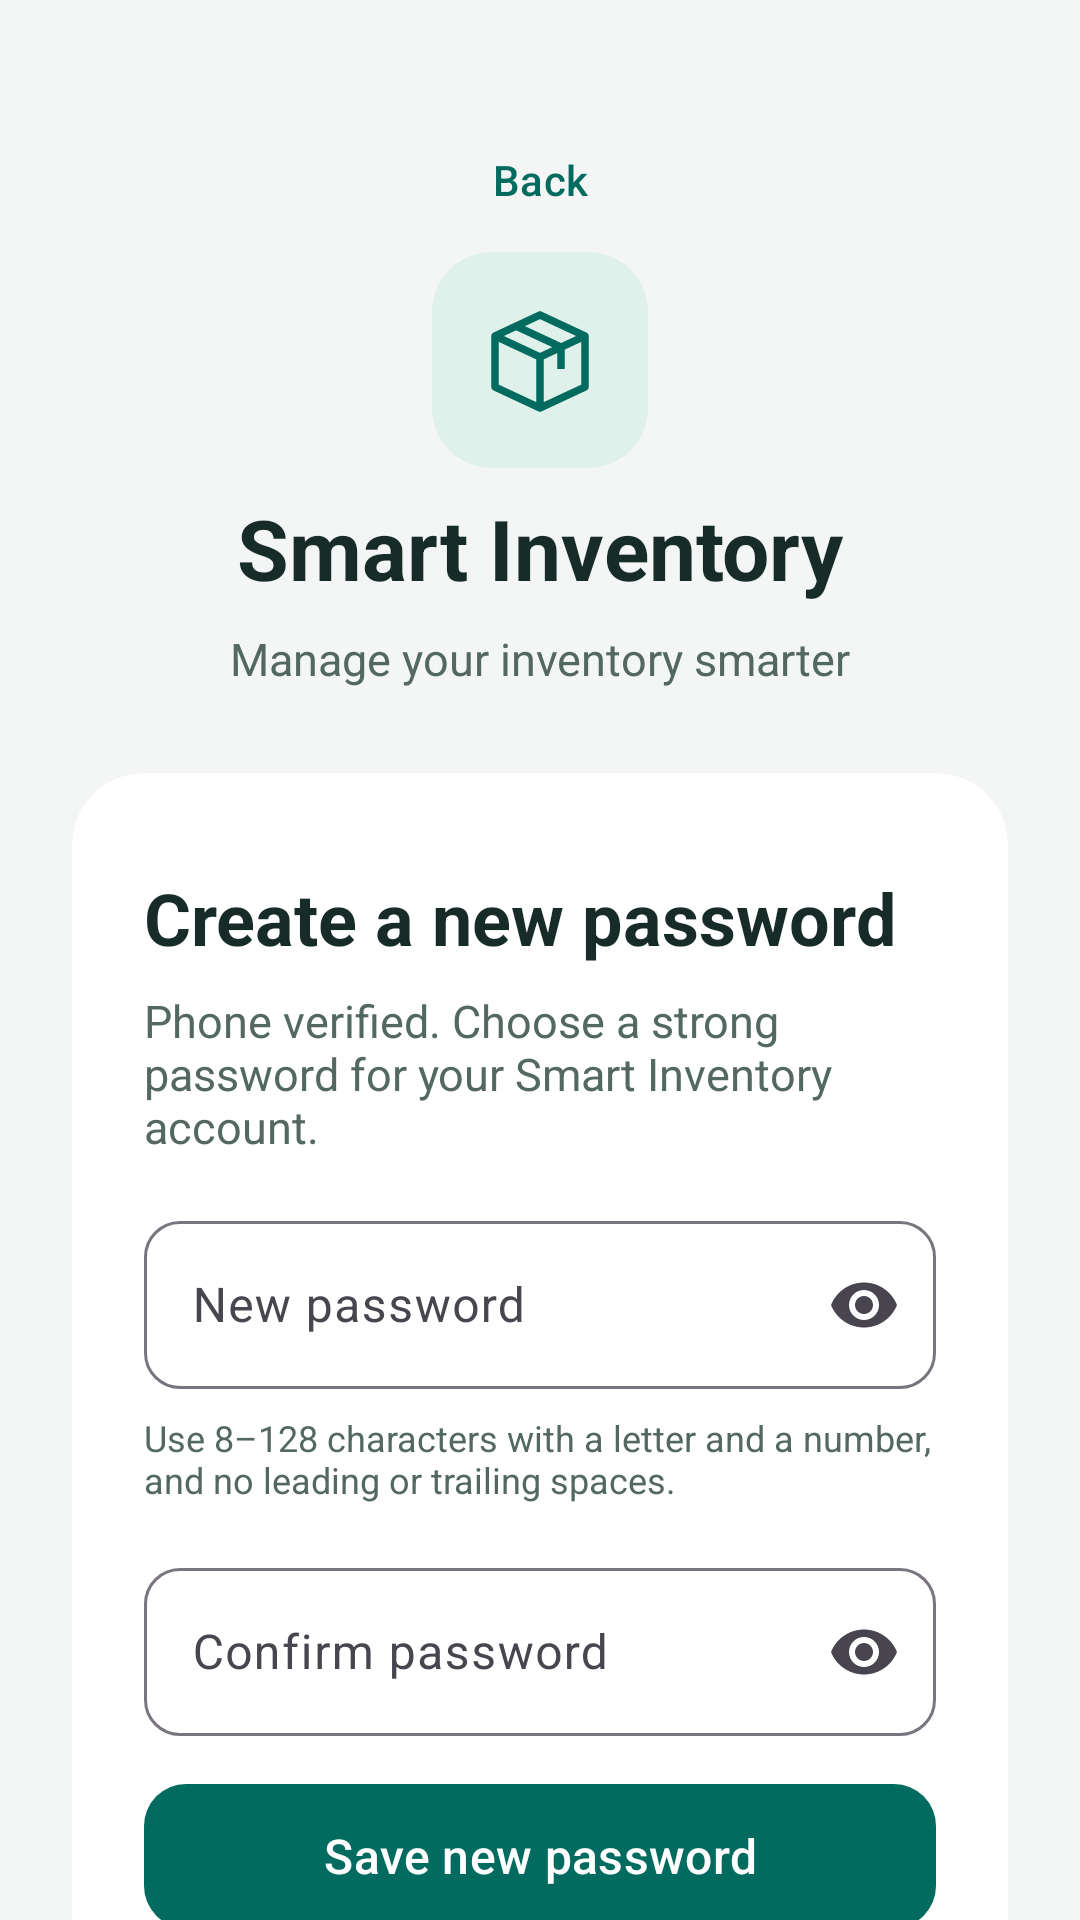

Where icons sit on this 1080×1920 app screen, as box(x1, y1, x2, y2):
inventory mark: box(432, 252, 648, 468)
